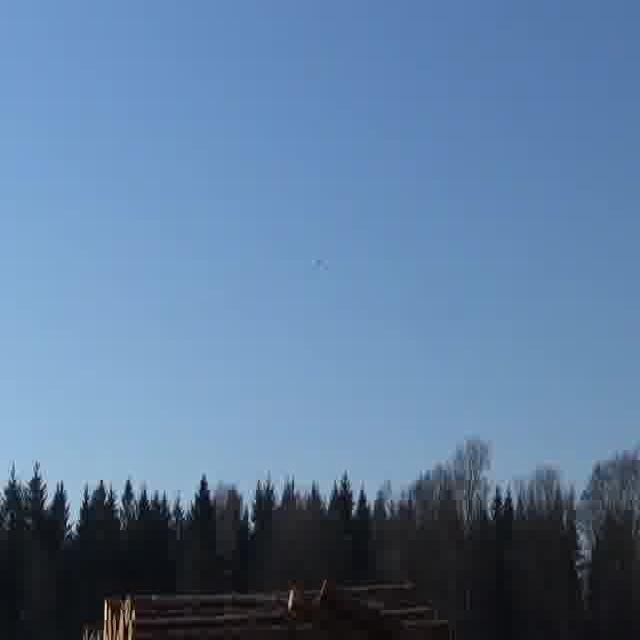bird: (309, 255, 332, 278)
